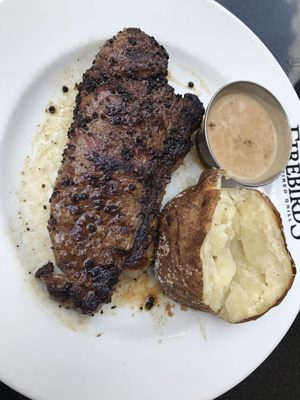salad: (195, 82, 296, 188)
soup: (155, 175, 295, 325)
